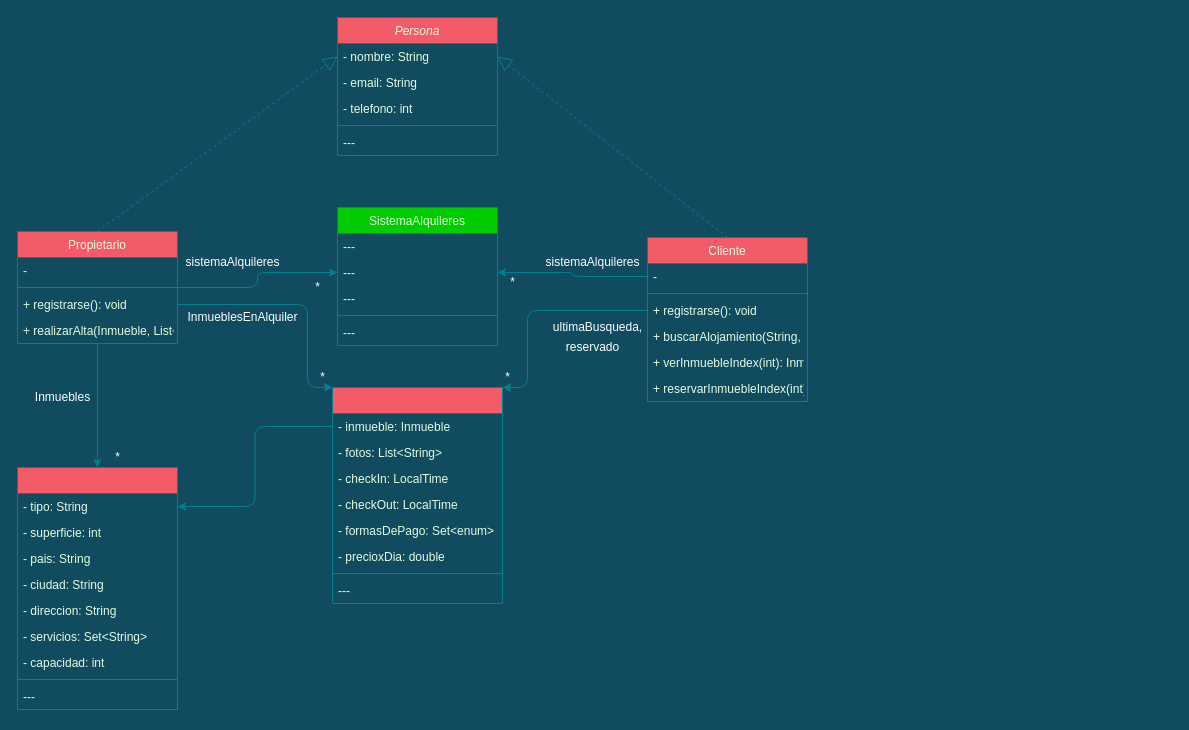
Some shapes in this 1189 by 730 pixel diagram are drawn without their labels. Each missing label, with the box of its shape:
Inmueble: (16, 466, 178, 710)
InmuebleEnAlquiler: (332, 386, 502, 604)
